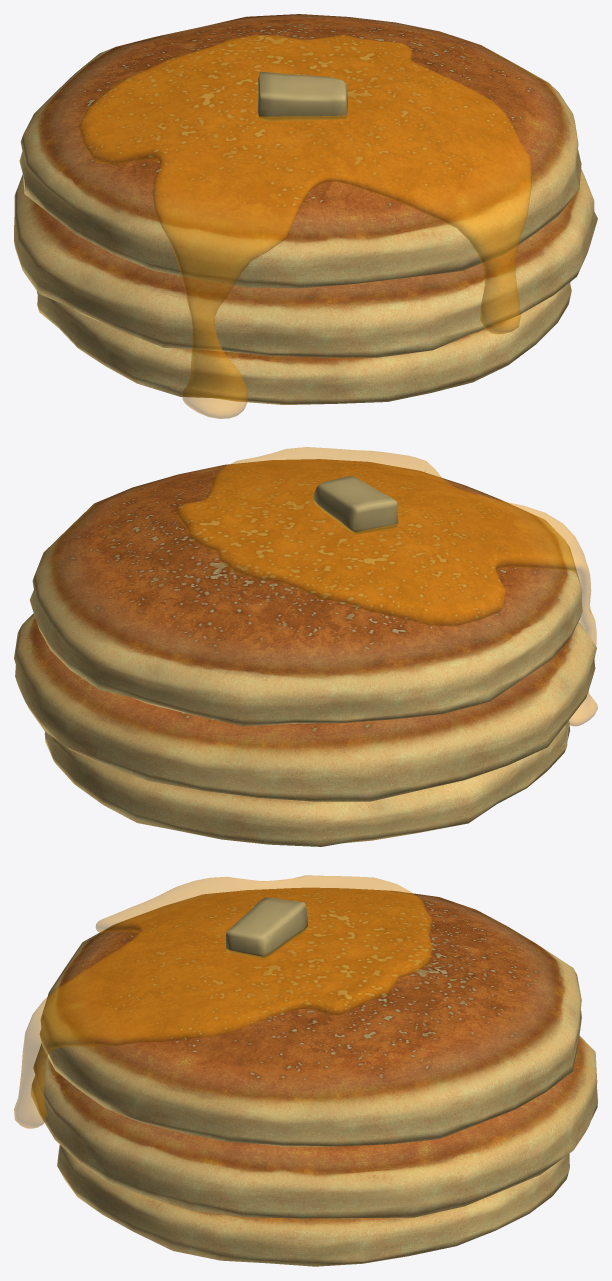
File: pancake.glb
3 views of the same model, one above another, from view 1: azimuth 30°, elevation 25°; view 2: azimuth 150°, elevation 25°; view 3: azimuth 270°, elevation 25° (orthographic). The views are drawn at different scales.
Parts seen in each view (by area): view 1: Pancake_low.003, Group8824, Pancake_low.002, Pancake_low.001, Butter_low.001; view 2: Pancake_low.003, Pancake_low.002, Group8824, Pancake_low.001, Butter_low.001; view 3: Pancake_low.003, Group8824, Pancake_low.002, Pancake_low.001, Butter_low.001.
Part boxes in pixels (x1,y1,x2,y2): Pancake_low.003: (19, 14, 581, 288); Group8824: (78, 34, 531, 418); Pancake_low.002: (14, 169, 597, 357); Pancake_low.001: (37, 282, 571, 404); Butter_low.001: (257, 72, 347, 120); Pancake_low.003: (30, 459, 582, 726); Pancake_low.002: (14, 613, 596, 801); Group8824: (176, 447, 597, 726); Pancake_low.001: (44, 720, 570, 846); Butter_low.001: (313, 476, 398, 534); Pancake_low.003: (40, 887, 581, 1146); Group8824: (14, 875, 432, 1128); Pancake_low.002: (31, 1035, 597, 1218); Pancake_low.001: (57, 1144, 569, 1266); Butter_low.001: (226, 897, 307, 958).
Size of the model in its own units: 137 by 64.38 by 142.
Materials: 2 (1 with a texture image).
